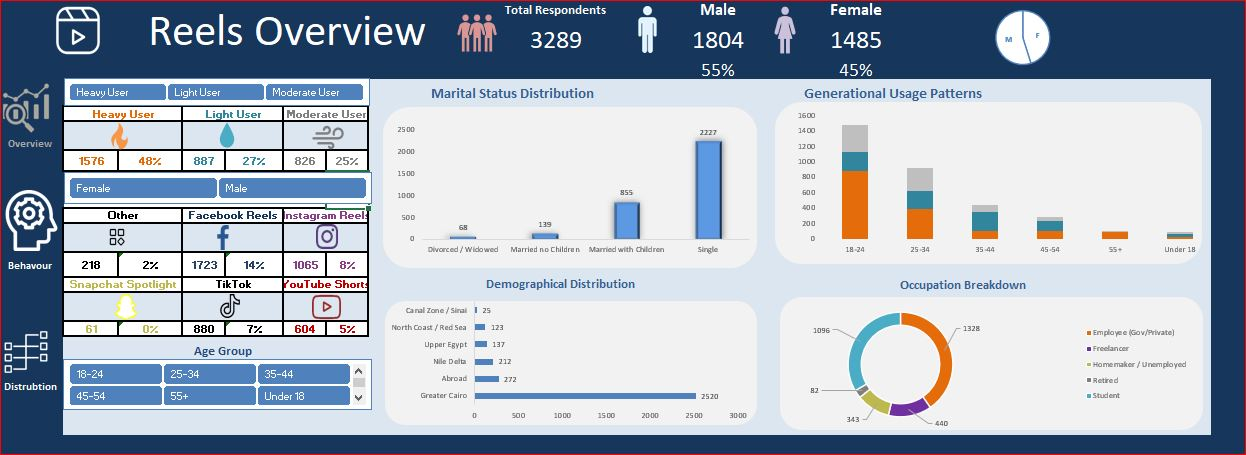

The dashboard page shown, as its layout file describes it:
{"tool":"tableau","page":{"name":" Overview","canvas":[1000,1000],"units":"permille","ordinal":0},"visuals":[{"type":"image","param":"Image/Screenshot 2026-05-23 134254.png","box":[446.5,7,155.3,79.1]},{"type":"image","param":"Image/Screenshot 2026-05-23 123538.png","box":[4.7,12.8,127.7,74.4]},{"type":"filter","title":"Content","param":"[federated.1yhqjpa0075h6b16pnpkr1wzqiz5].[none:content_type:nk]","box":[701.2,39.5,94.1,48.8]},{"type":"image","param":"Image/Screenshot 2026-05-23 183422.png","box":[97.7,89.5,882.9,854.6]},{"type":"worksheet","title":" kpi_Heavy Users ","mark":"Automatic","box":[115.3,108.1,175.9,104.7]},{"type":"worksheet","title":"KPI_Intensity","mark":"Text","box":[326.5,109.3,185.3,117.4]},{"type":"worksheet","title":"Content","mark":"Automatic","box":[564.1,116.3,348.2,418.6]},{"type":"image","param":"Image/Screenshot 2026-05-23 133655.png","box":[5.9,139.5,89.4,161.6]},{"type":"filter","title":"spark_Intensity","param":"[federated.1yhqjpa0075h6b16pnpkr1wzqiz5].[none:age_group:nk]","box":[514.1,203.5,34.7,69.8]},{"type":"worksheet","title":"Heavy Users _line","mark":"Line","rows":["user_segment"],"cols":["age_group"],"box":[112.4,205.8,178.2,100]},{"type":"worksheet","title":"spark_Intensity","mark":"Line","rows":["user_id (Sheet11)"],"cols":["age_group"],"box":[325.9,217.4,182.9,80.2]},{"type":"image","param":"Image/Screenshot 2026-05-23 140817.png","box":[28.2,313.9,47.6,76.7]},{"type":"worksheet","title":"KPI_Content","mark":"Text","box":[325.3,334.9,181.2,83.7]},{"type":"worksheet","title":"KPI_Respondents","mark":"Text","box":[114.1,340.7,179.4,114]},{"type":"filter","title":"Filters","param":"[federated.1yhqjpa0075h6b16pnpkr1wzqiz5].[none:age_group:nk]","box":[4.1,400,90.6,75.6]},{"type":"filter","title":"KPI_Content","param":"[federated.1yhqjpa0075h6b16pnpkr1wzqiz5].[none:content_type:nk]","box":[517.1,405.8,31.2,45.4]},{"type":"worksheet","title":"Content_spark (2)","mark":"Line","rows":["user_segment"],"cols":["content_type"],"box":[331.2,420.9,177.7,107]},{"type":"worksheet","title":"Spark_Respondents","mark":"Line","rows":["user_id (Sheet11)"],"cols":["age_group"],"box":[110.6,450,183.5,77.9]},{"type":"image","param":"Image/Screenshot 2026-05-23 140806.png","box":[31.2,482.6,37.6,109.3]},{"type":"filter","title":"Filters","param":"[federated.1yhqjpa0075h6b16pnpkr1wzqiz5].[none:primary_platform:nk]","box":[2.9,568.6,92.4,89.5]},{"type":"worksheet","title":"daily_watch_hours","mark":"Automatic","rows":["user_id (Sheet11)"],"cols":["daily_watch_hours"],"box":[577.1,569.8,332.9,332.6]},{"type":"filter","title":"daily_watch_hours","param":"[federated.1yhqjpa0075h6b16pnpkr1wzqiz5].[none:daily_watch_hours:nk]","box":[784.1,569.8,77.7,59.3]},{"type":"worksheet","title":" User Segment","mark":"Pie","rows":["Calculation_1825190947889163","Calculation_1825190947926028"],"box":[125.9,570.9,332.9,334.9]},{"type":"filter","title":" User Segment","param":"[federated.1yhqjpa0075h6b16pnpkr1wzqiz5].[none:user_segment:nk]","box":[488.2,575.6,58.8,72.1]},{"type":"image","param":"Image/Screenshot 2026-05-23 140821.png","box":[32.4,684.9,45.3,76.7]},{"type":"filter","title":"Filters","param":"[federated.1yhqjpa0075h6b16pnpkr1wzqiz5].[none:region:nk]","box":[2.4,781.4,92.4,98.8]},{"type":"worksheet","title":"Filters","mark":"Automatic","box":[58.8,974.4,332.9,2.3]}]}

Visuals, with their boxes on the dashboard's canvas, which has no fixed pixel size, in thousandths of its width and height (x1, y1, x2, y2). These are canvas units, not pixel positions in the 1246x455 screenshot, which may show the page scaled, cropped or inside an application window:
image: [446,7,602,86]
image: [5,13,132,87]
"Content" filter: [701,40,795,88]
image: [98,90,981,944]
" kpi_Heavy Users " worksheet: [115,108,291,213]
"KPI_Intensity" worksheet (Text marks): [326,109,512,227]
"Content" worksheet: [564,116,912,535]
image: [6,140,95,301]
"spark_Intensity" filter: [514,204,549,273]
"Heavy Users _line" worksheet (Line marks): [112,206,291,306]
"spark_Intensity" worksheet (Line marks): [326,217,509,298]
image: [28,314,76,391]
"KPI_Content" worksheet (Text marks): [325,335,506,419]
"KPI_Respondents" worksheet (Text marks): [114,341,294,455]
"Filters" filter: [4,400,95,476]
"KPI_Content" filter: [517,406,548,451]
"Content_spark (2)" worksheet (Line marks): [331,421,509,528]
"Spark_Respondents" worksheet (Line marks): [111,450,294,528]
image: [31,483,69,592]
"Filters" filter: [3,569,95,658]
"daily_watch_hours" worksheet: [577,570,910,902]
"daily_watch_hours" filter: [784,570,862,629]
" User Segment" worksheet (Pie marks): [126,571,459,906]
" User Segment" filter: [488,576,547,648]
image: [32,685,78,762]
"Filters" filter: [2,781,95,880]
"Filters" worksheet: [59,974,392,977]
